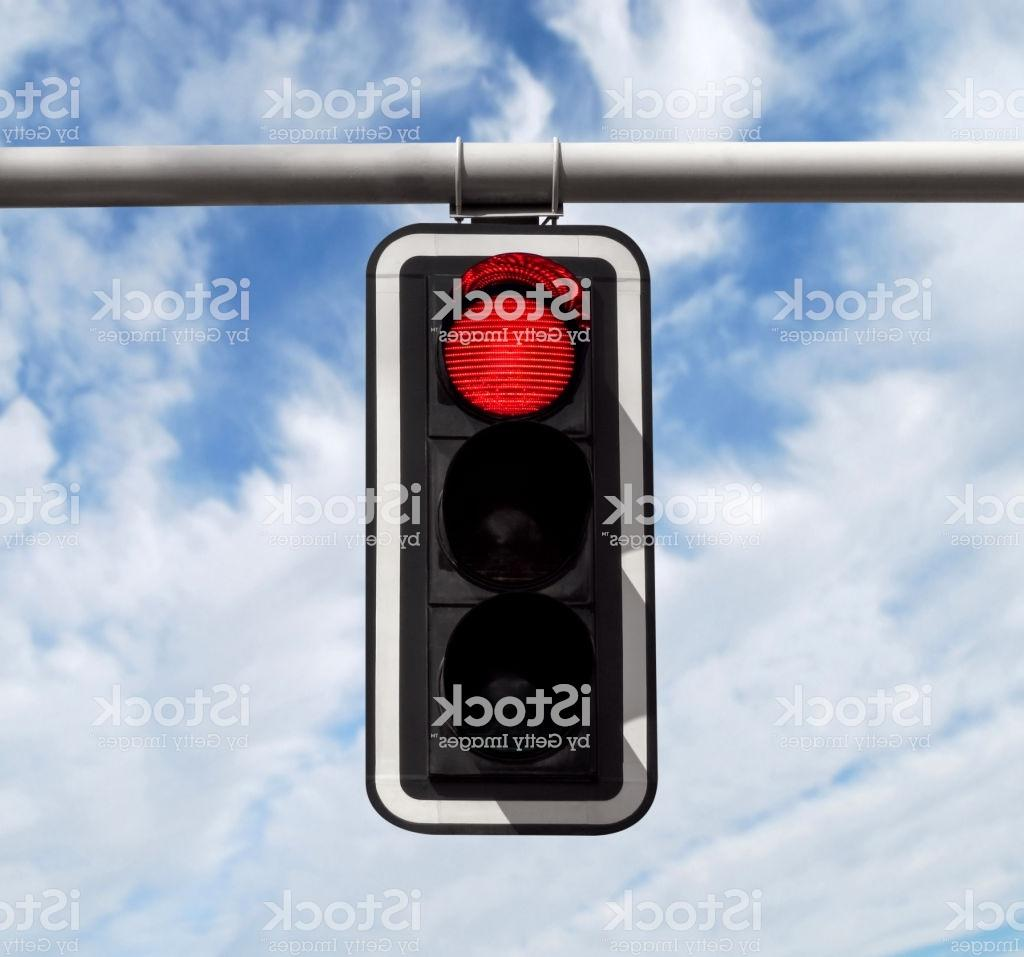red: (360, 210, 720, 832)
